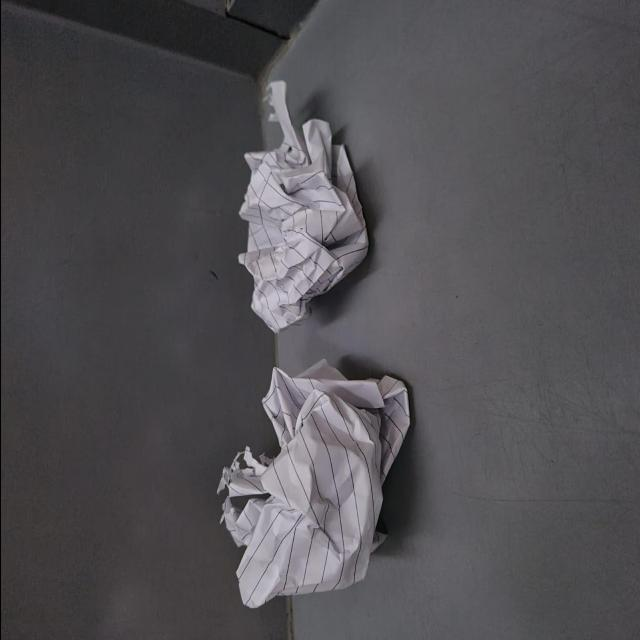kertas: (208, 348, 426, 610), (226, 78, 374, 320)
